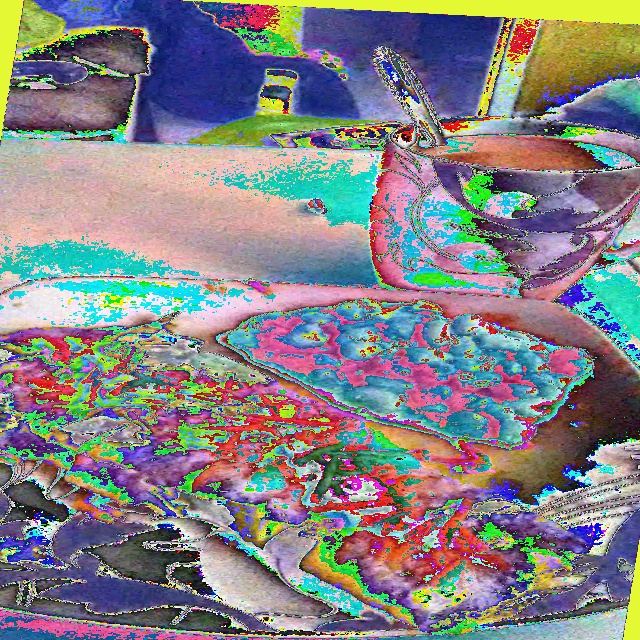background: (0, 312, 592, 635), (227, 146, 593, 442), (231, 37, 637, 170)
